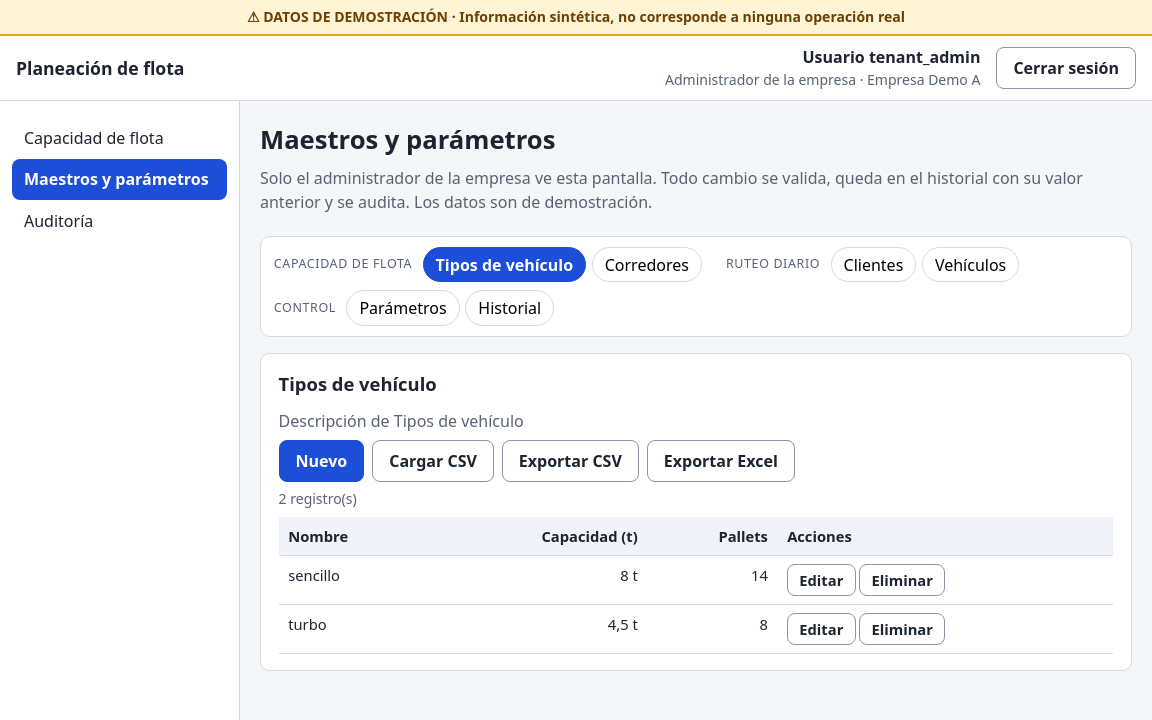
it: alta, edición y baja › crea un registro con los valores escritos y refresca la lista
Click the button "Nuevo" at (321, 460), box [279, 440, 364, 482]
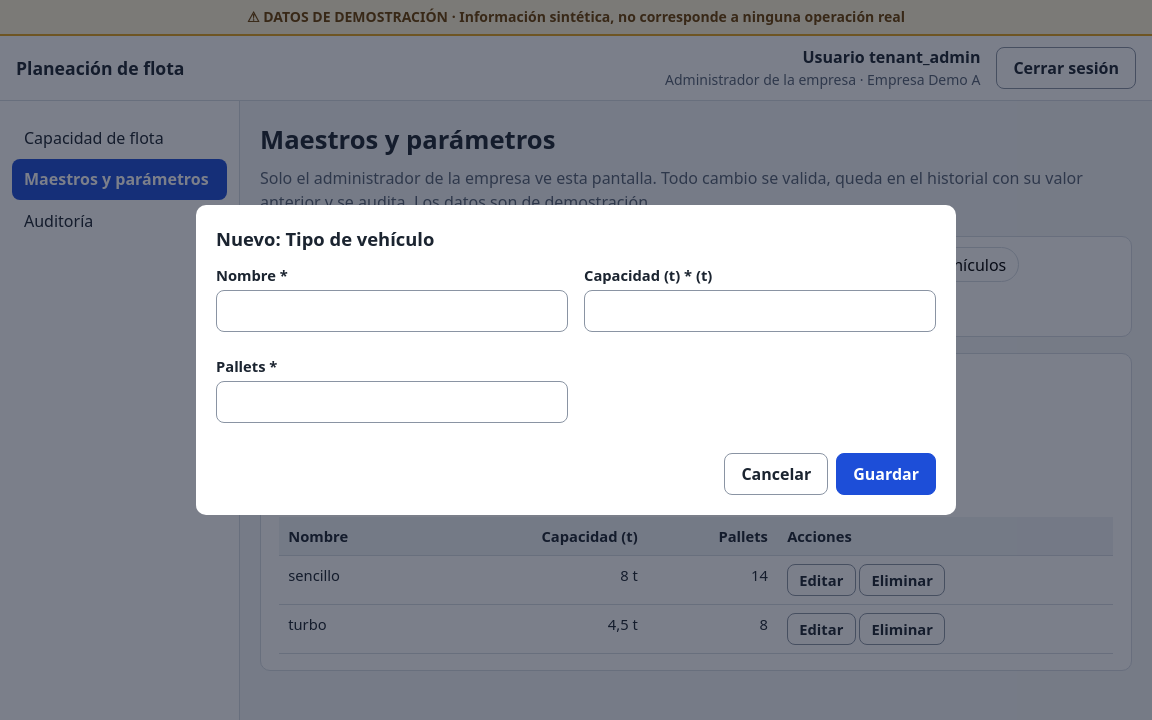
Type "furgon" into the field labelled "Nombre *" at (392, 311), box [216, 290, 568, 332]
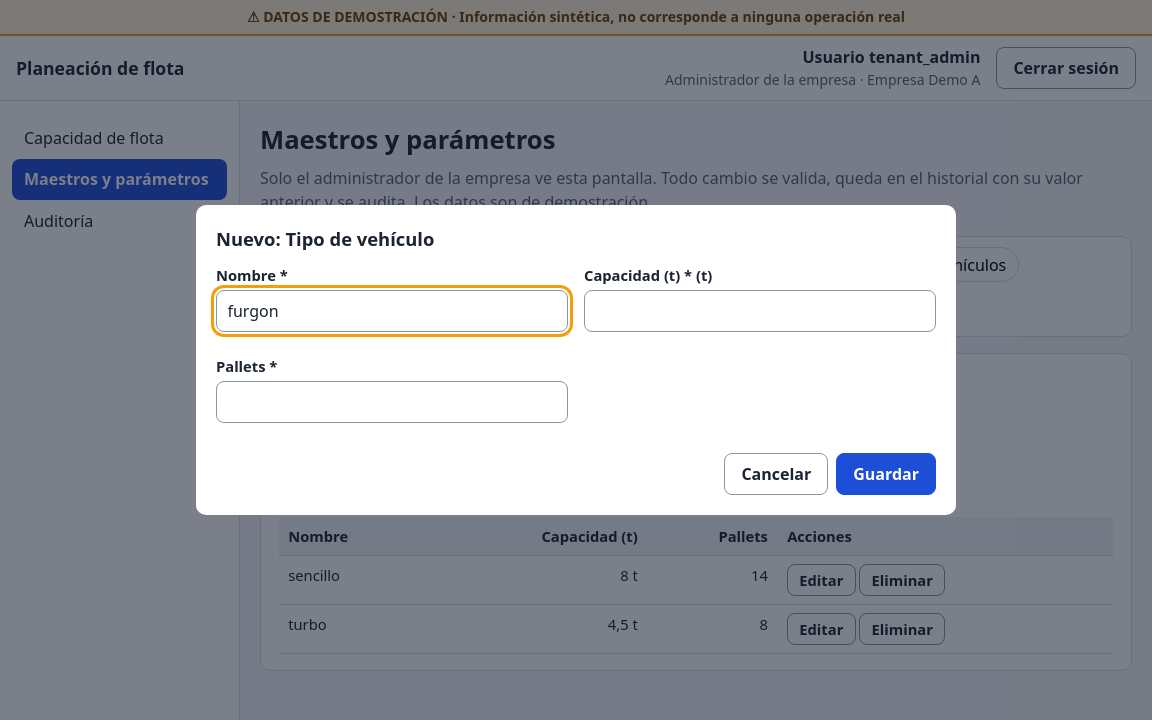
Type "1,5" into the field labelled "Capacidad (t) * (t)" at (760, 311), box [584, 290, 936, 332]
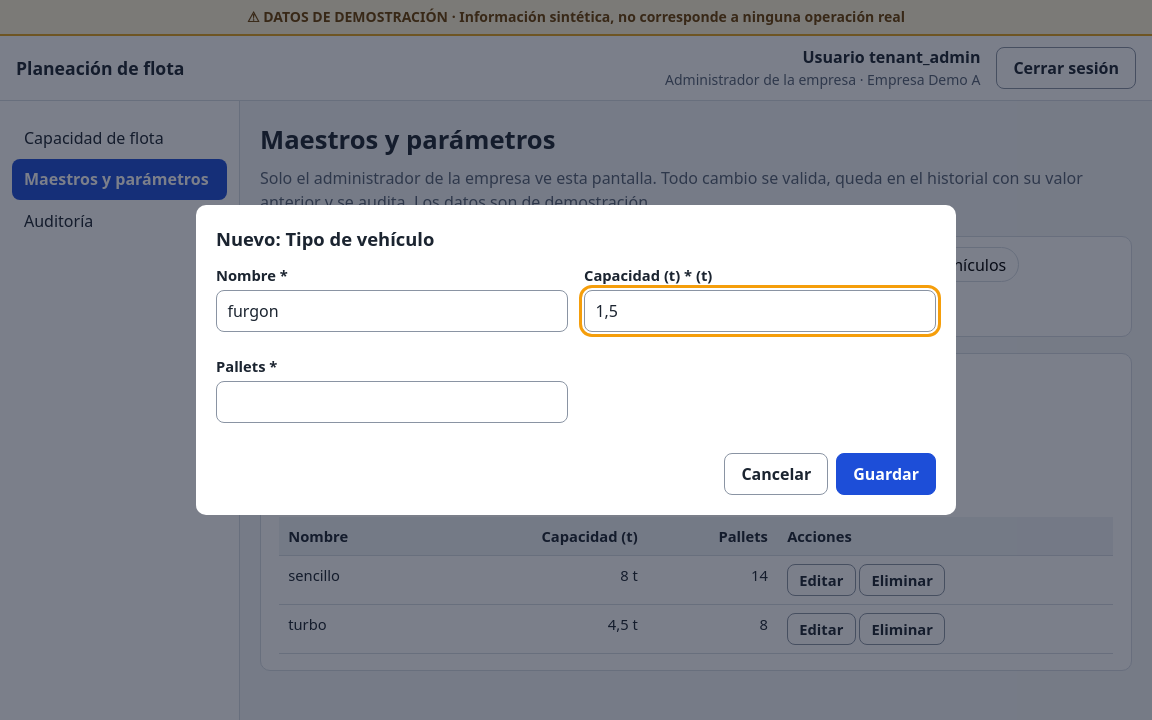
Type "3" into the field labelled "Pallets *" at (392, 402), box [216, 381, 568, 423]
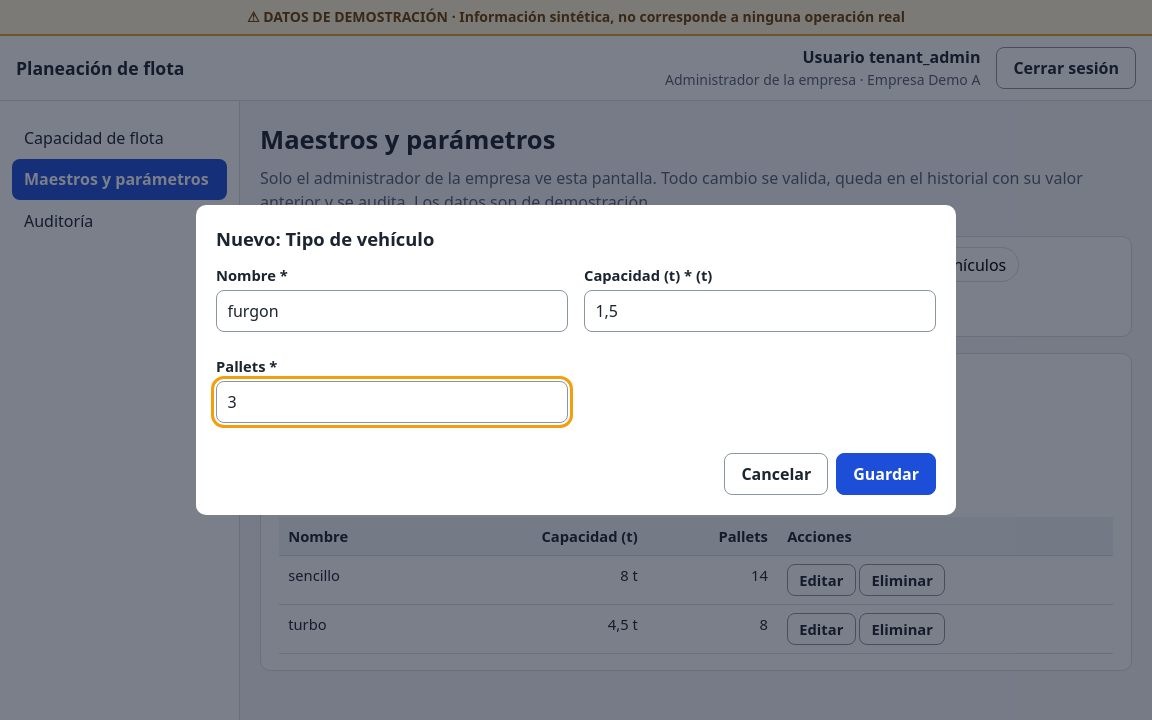
Click the button "Guardar" at (886, 474), box [836, 453, 936, 495]
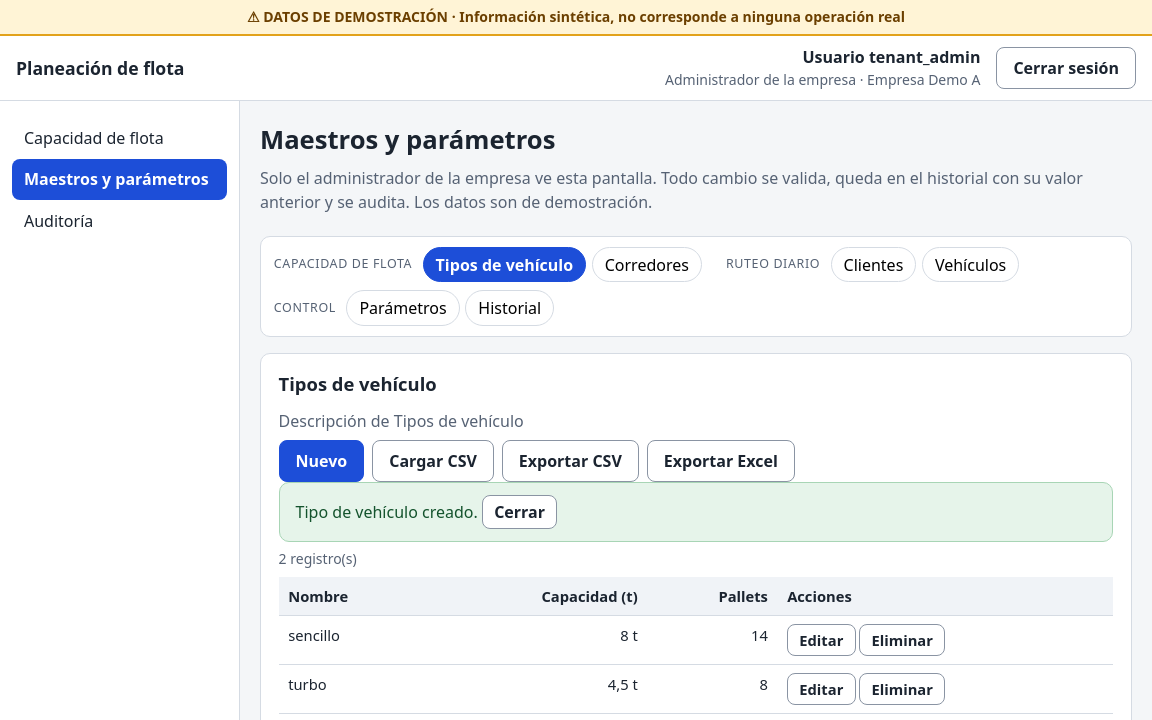
Expected: the text "Tipo de vehículo creado." is shown, [296, 500, 478, 522]
Expected: the dialog is gone
